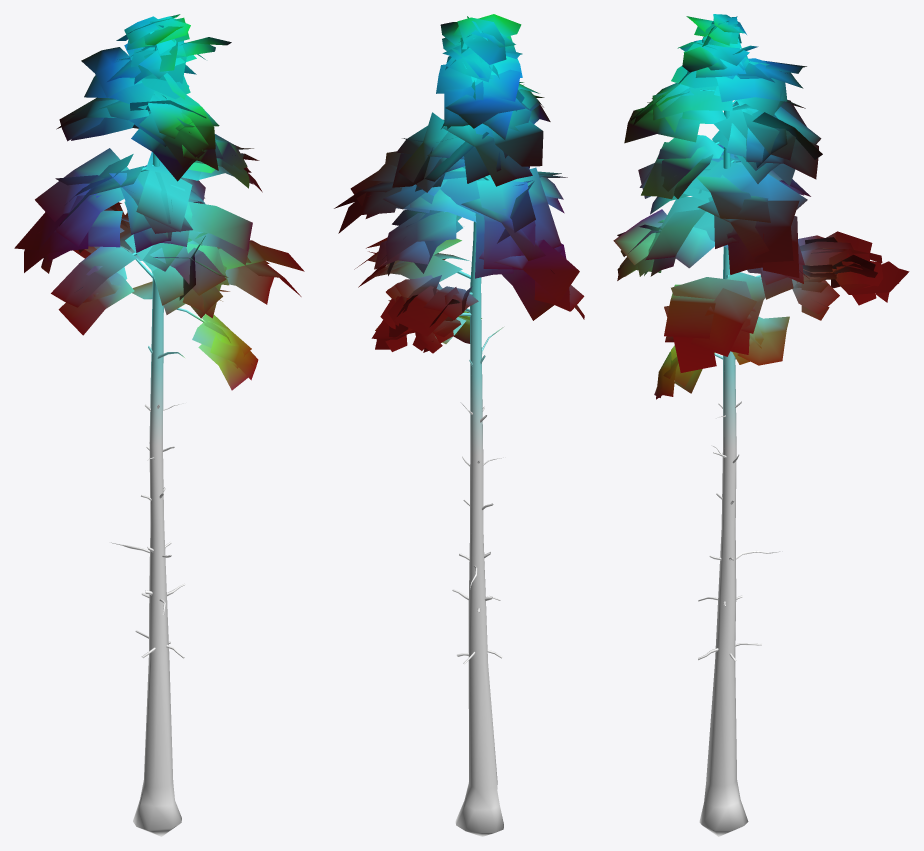
File: arden_forest_pine_big_01.fbx
3 renders of one model, left to right at view 1: azimuth 30°, elevation 25°; view 2: azimuth 150°, elevation 25°; view 3: azimuth 270°, elevation 25°, orthographic.
Visible parts, largest first — view 1: arden_forest_pine_big_01; view 2: arden_forest_pine_big_01; view 3: arden_forest_pine_big_01.
Part boxes in pixels (x1,y1,x2,y2): arden_forest_pine_big_01: [14, 14, 304, 836]; arden_forest_pine_big_01: [334, 14, 584, 836]; arden_forest_pine_big_01: [613, 14, 909, 836].
Bounding box in the file's own units: 6.69 × 7.2 × 21.94.
